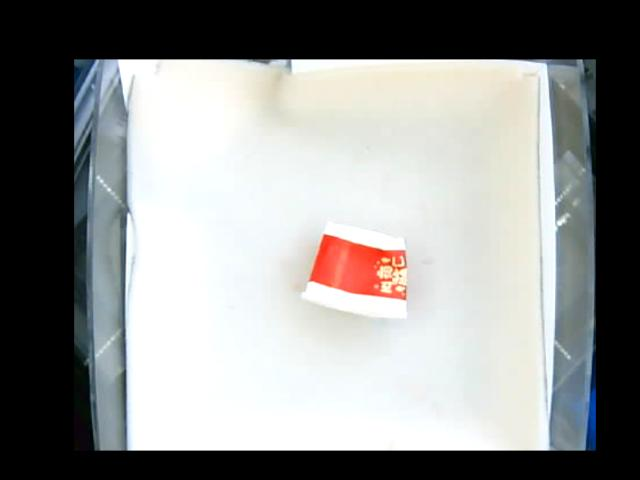Cup: (299, 224, 411, 323)
